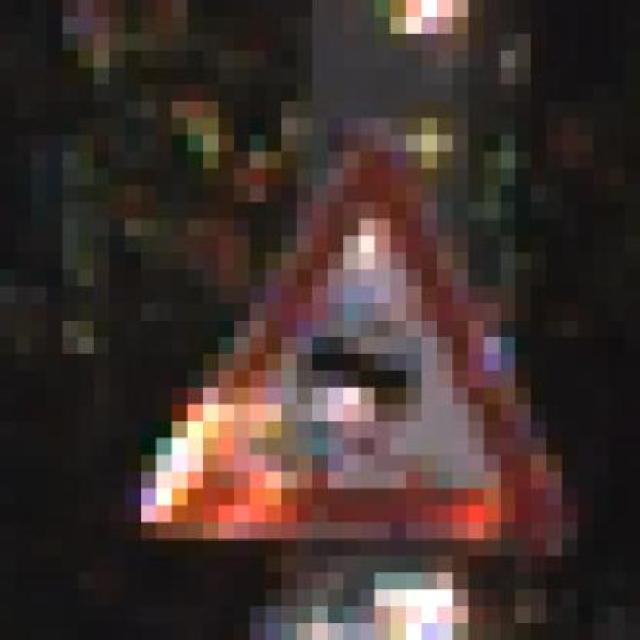Slippery Road Ahead: (109, 118, 562, 556)
